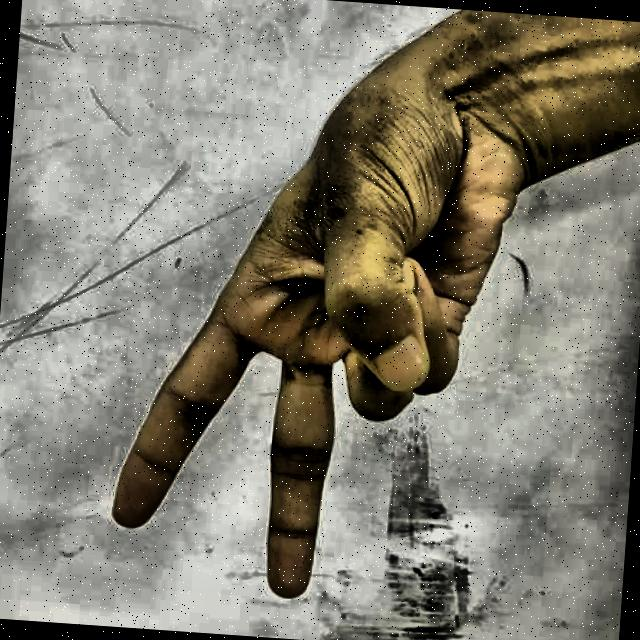Pa: (82, 38, 550, 632)
